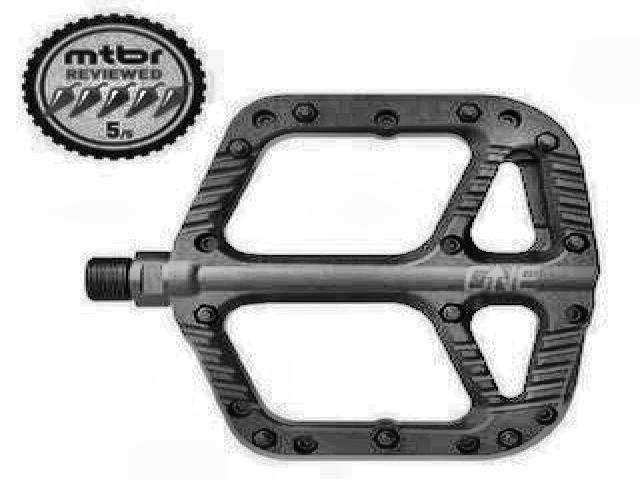pedal: (84, 90, 607, 468)
